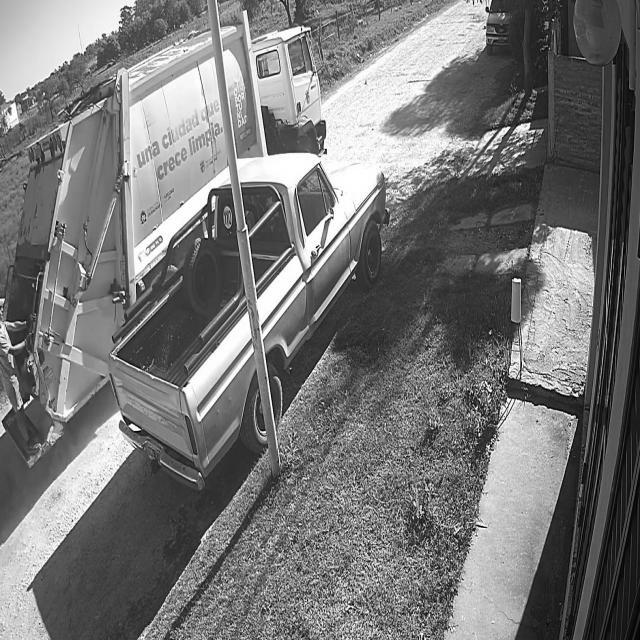Garbage Truck: (3, 13, 228, 469), (219, 11, 331, 161)
